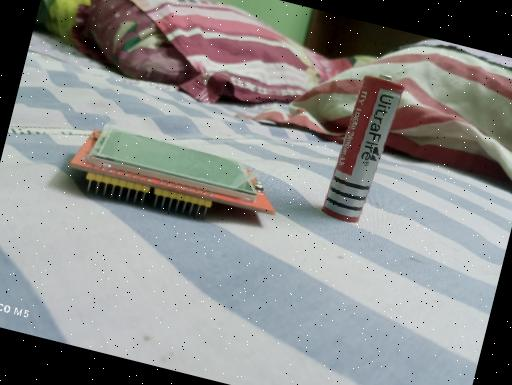Battery: (318, 67, 406, 228)
Display: (61, 114, 288, 237)
